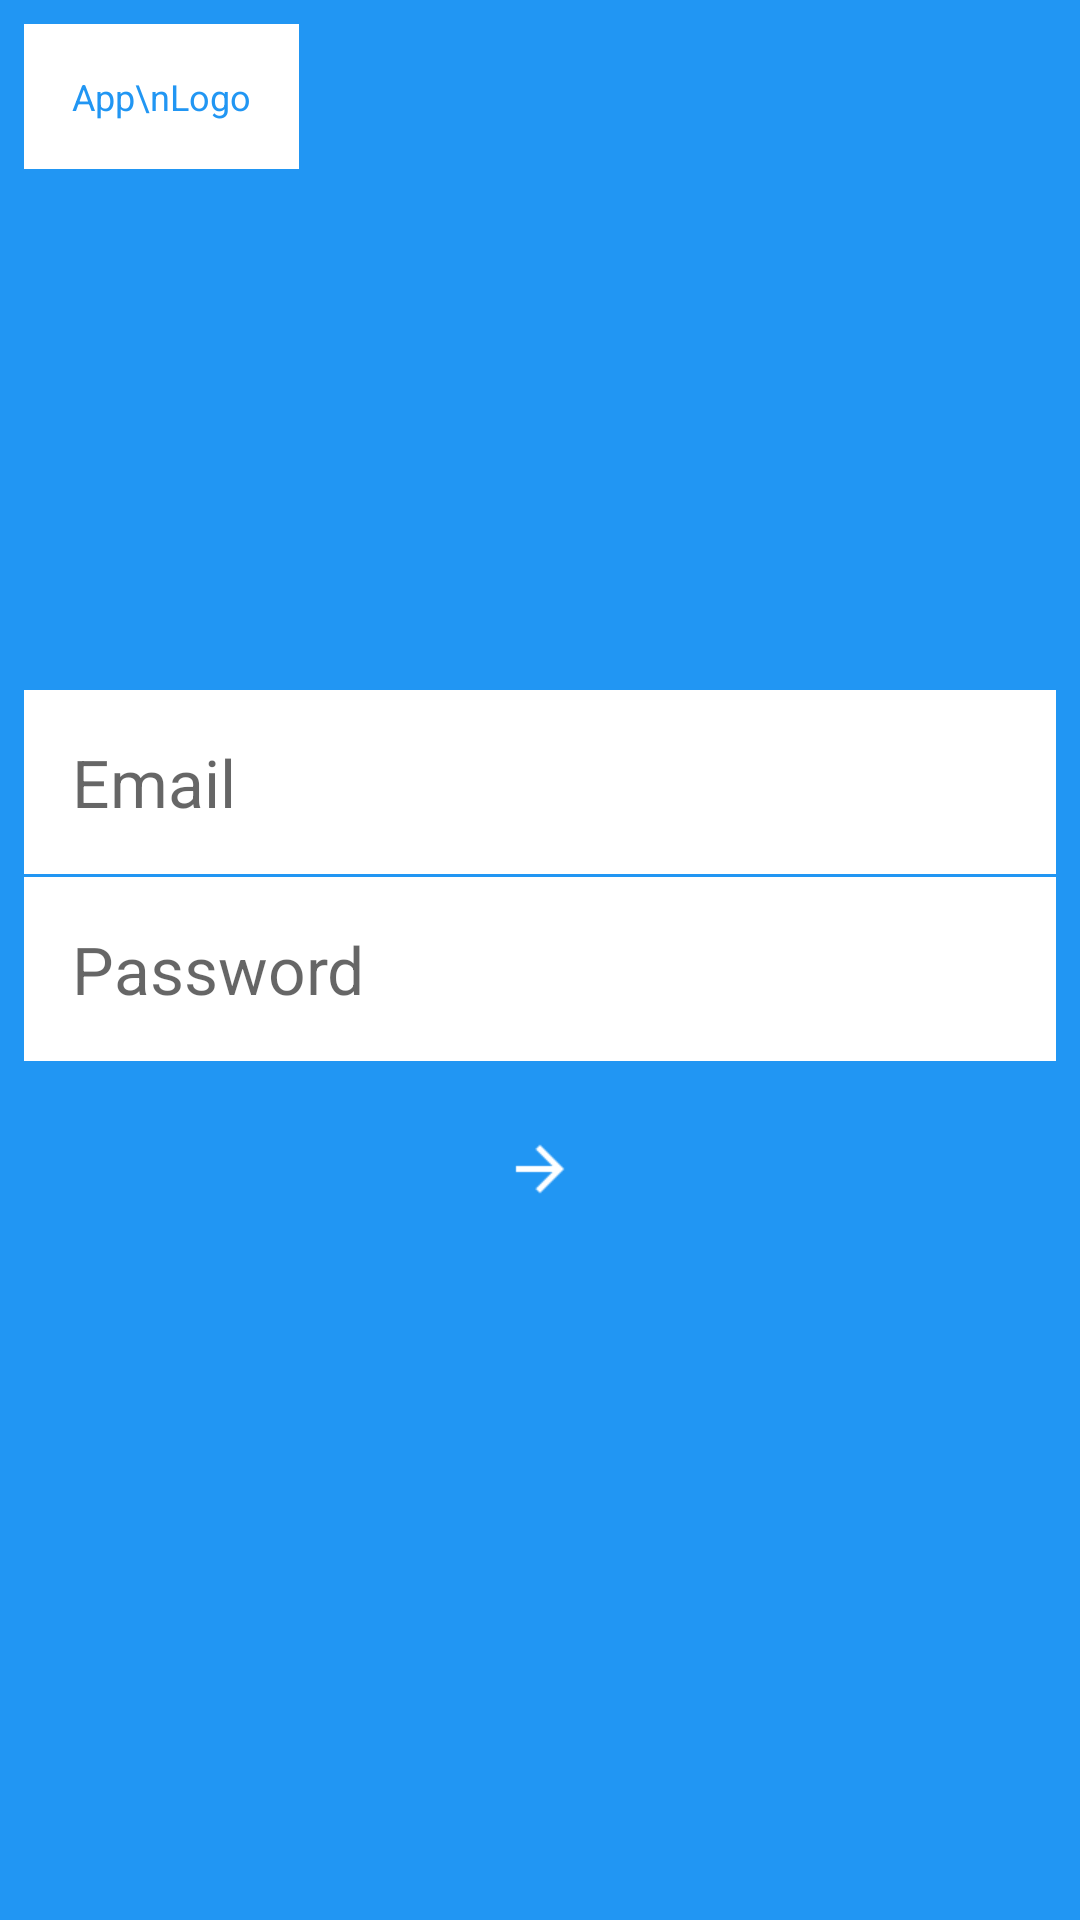

Point at icon controls on the screen. Image size 1080×1920, points as (x,y).
navigation arrow forward: (539,1169)
